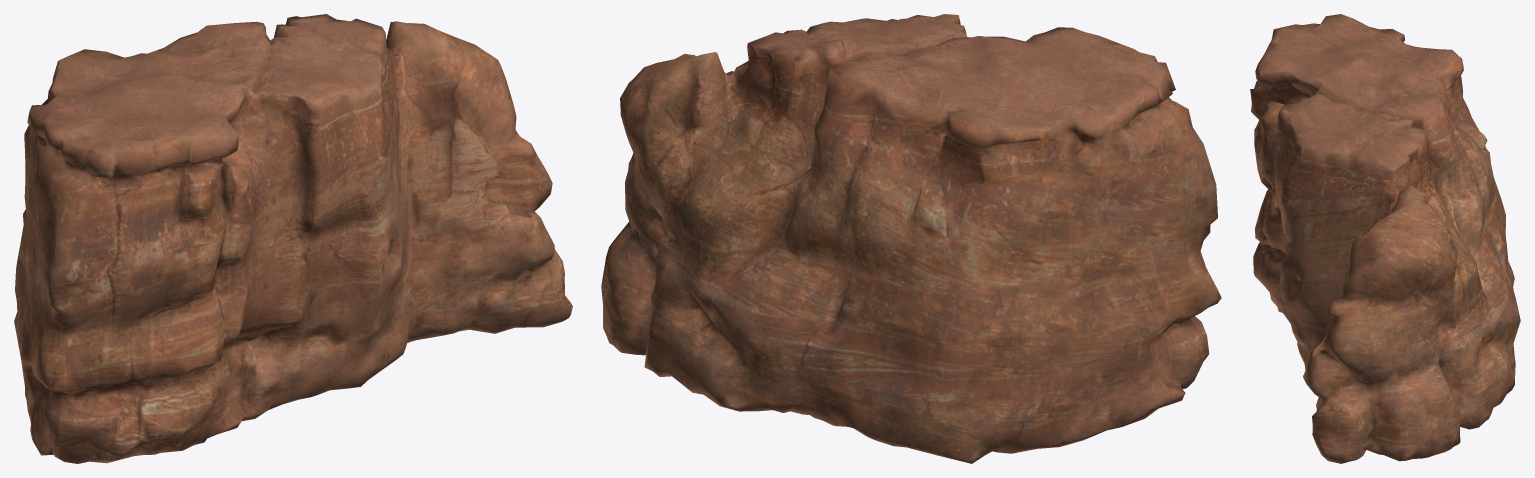
File: desert_western_cliff_layered_xl_14_vjrmfb1ab_mid.glb
3 renders of one model, left to right at view 1: azimuth 30°, elevation 25°; view 2: azimuth 150°, elevation 25°; view 3: azimuth 270°, elevation 25°, orthographic. The views are drawn at different scales.
Visible parts, largest first — view 1: vjrmfb1ab_LOD0_TIER2_000; view 2: vjrmfb1ab_LOD0_TIER2_000; view 3: vjrmfb1ab_LOD0_TIER2_000.
Part boxes in pixels (<box>): vjrmfb1ab_LOD0_TIER2_000: <box>14,14,572,463</box>; vjrmfb1ab_LOD0_TIER2_000: <box>601,14,1221,463</box>; vjrmfb1ab_LOD0_TIER2_000: <box>1250,14,1520,463</box>.
Bounding box in the file's own units: 25.69 × 14.85 × 13.61.
Materials: 1 (1 with a texture image).
